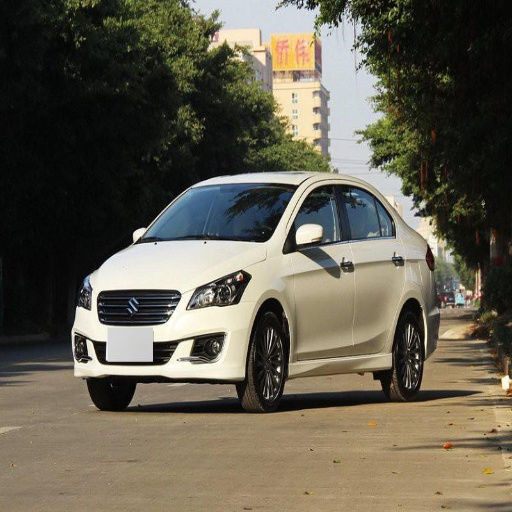front_bumper: (72, 277, 256, 385)
front_glass: (138, 184, 296, 242)
front_left_door: (286, 181, 353, 361)
